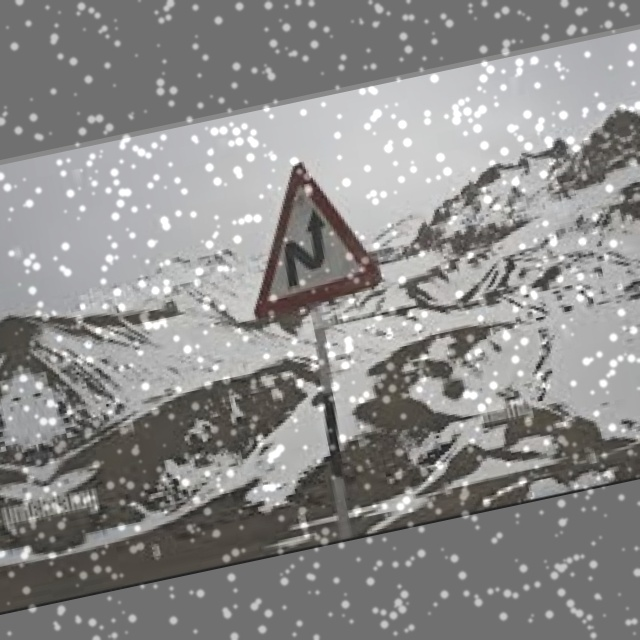Right_Reverse_Bend: (236, 152, 386, 322)
